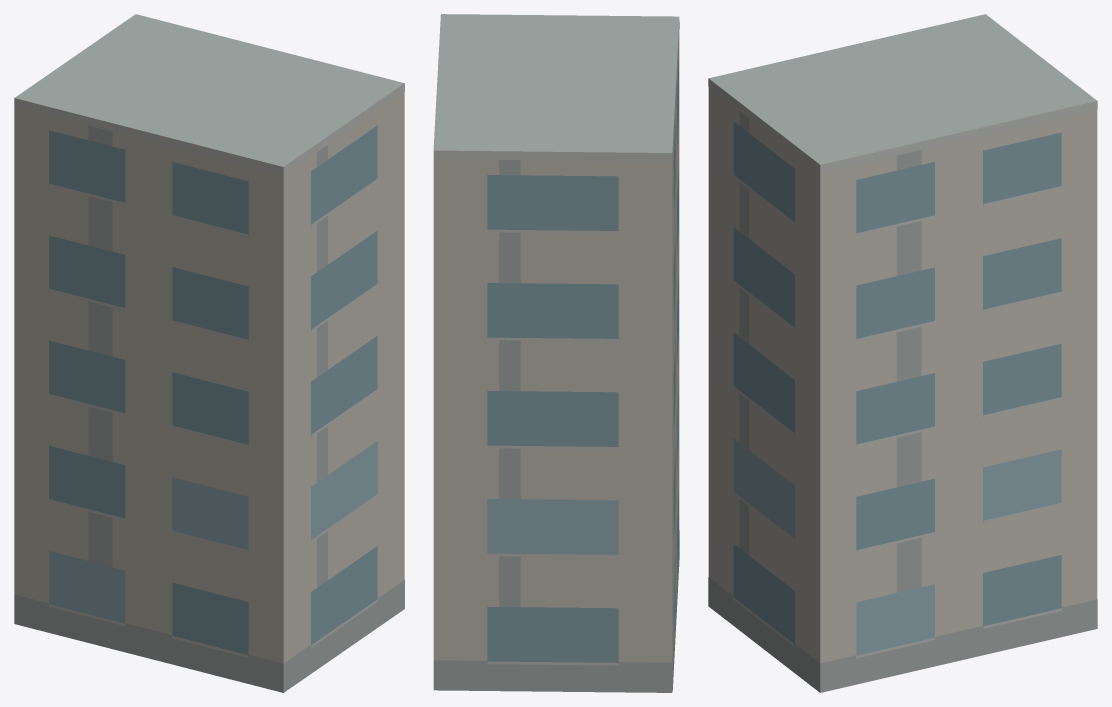
File: survey-upis-32645697.glb
3 renders of one model, left to right at view 1: azimuth 30°, elevation 25°; view 2: azimuth 150°, elevation 25°; view 3: azimuth 270°, elevation 25°, orthographic. The views are drawn at different scales.
Parts seen in each view (by area): view 1: survey-upis-32645697.tmp; view 2: survey-upis-32645697.tmp; view 3: survey-upis-32645697.tmp.
Part boxes in pixels (<box>): survey-upis-32645697.tmp: <box>14,14,404,692</box>; survey-upis-32645697.tmp: <box>433,14,679,692</box>; survey-upis-32645697.tmp: <box>708,14,1097,692</box>.
Size of the model in its own units: 9.36 by 15.25 by 10.19.
